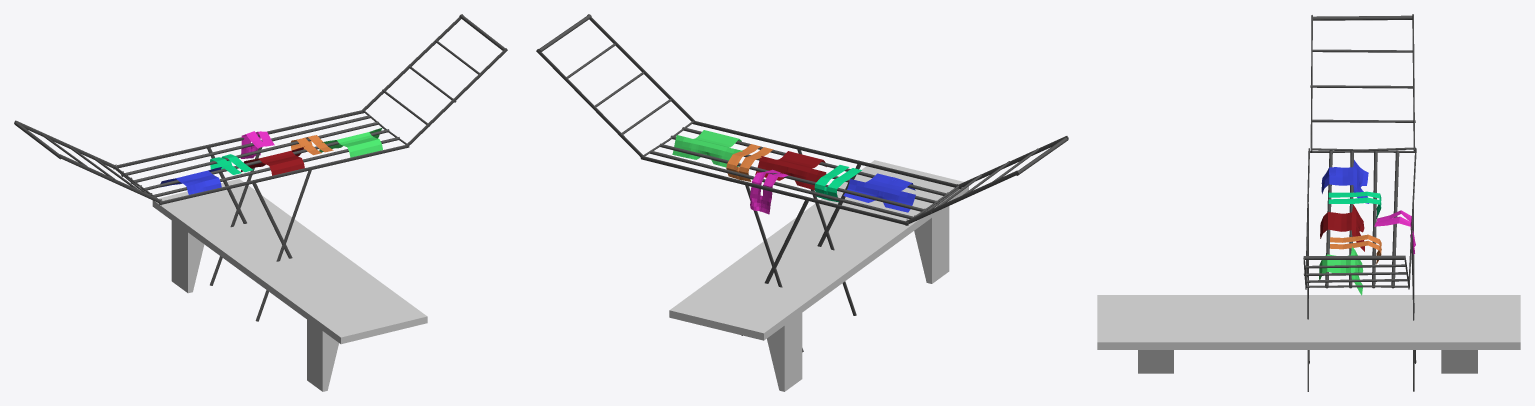
File: pesurest.glb
3 renders of one model, left to right at view 1: azimuth 30°, elevation 25°; view 2: azimuth 150°, elevation 25°; view 3: azimuth 270°, elevation 25°, orthographic. The views are drawn at different scales.
Visible parts, largest first — view 1: Cube, Plane.004; view 2: Cube, Plane.004; view 3: Cube, Plane.004.
Part boxes in pixels (bbox=[...]): Cube: bbox=[152, 178, 427, 391]; Plane.004: bbox=[14, 14, 507, 321]; Cube: bbox=[669, 160, 968, 391]; Plane.004: bbox=[536, 14, 1068, 352]; Cube: bbox=[1097, 295, 1520, 373]; Plane.004: bbox=[1303, 14, 1416, 391].
Bounding box in the file's own units: 10.33 × 5.03 × 7.53.
